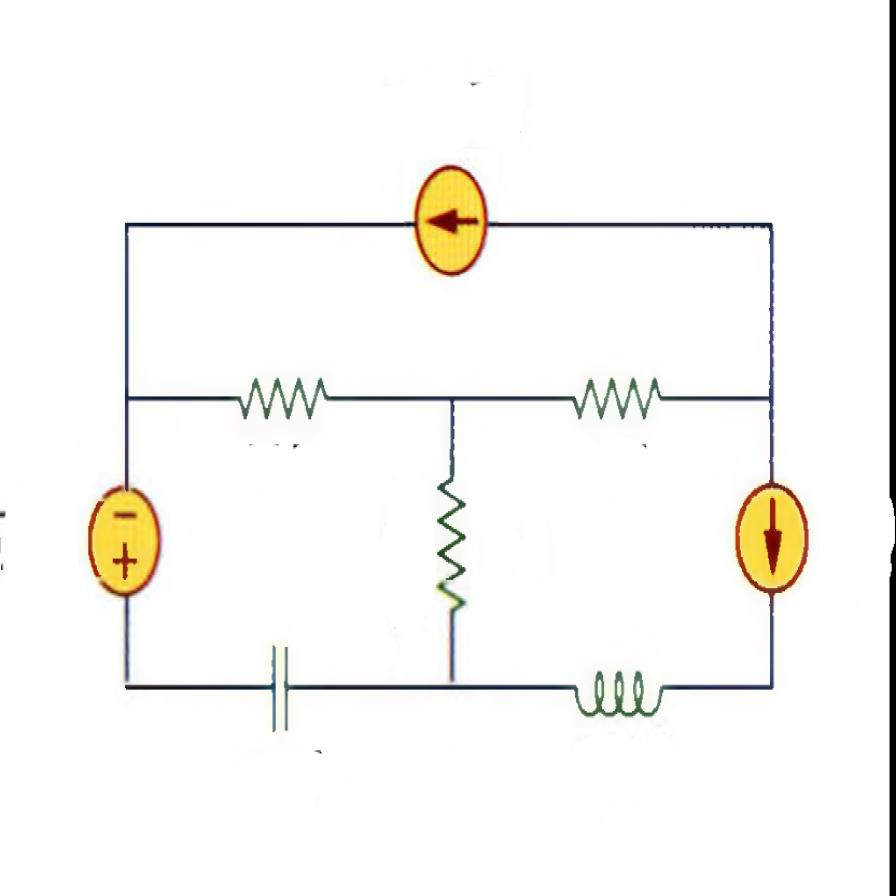C1: (257, 630, 301, 740)
I3: (731, 467, 810, 602)
I4: (410, 158, 489, 280)
L1: (568, 657, 668, 733)
R1: (230, 356, 335, 433)
V3: (80, 473, 168, 607)
